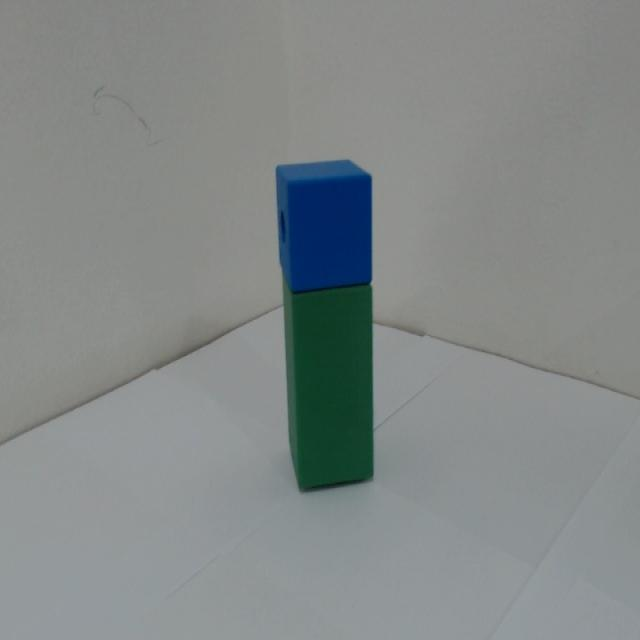cube: (252, 113, 398, 284)
